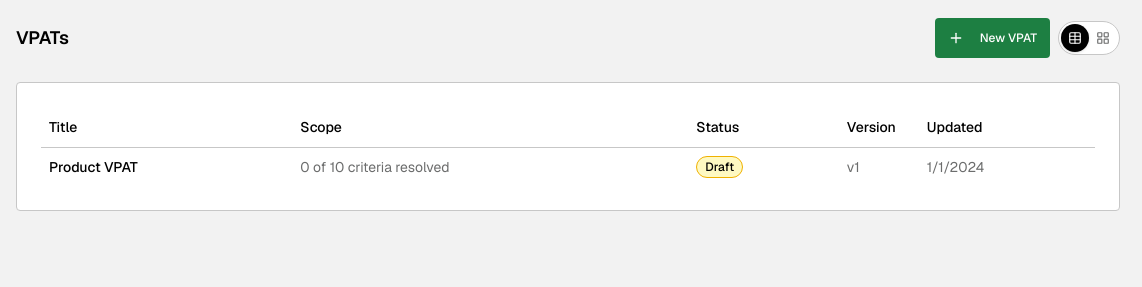
Test: VpatsListView › switches to grid view
This screenshot has width=1142, height=287.
Click the button named "grid view".
click(1103, 38)  # box [1089,24,1117,52]
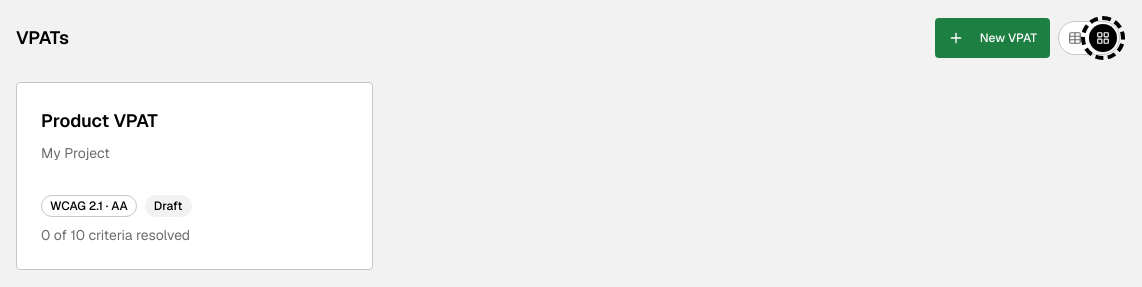
Expected: the text "Product VPAT" is shown, [41,109,158,132]
Expected: the table is gone
